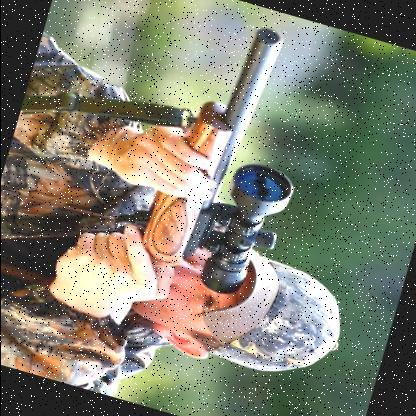rifle: (68, 0, 344, 322)
